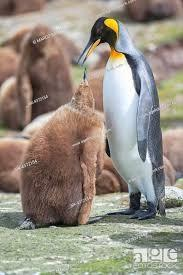king: (71, 5, 181, 227)
